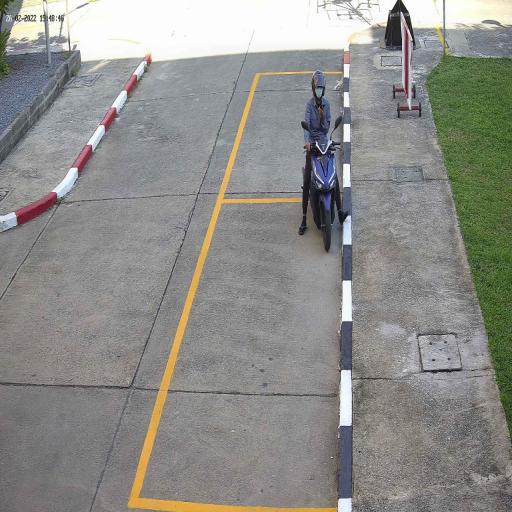motorcycle: (311, 137, 339, 253)
